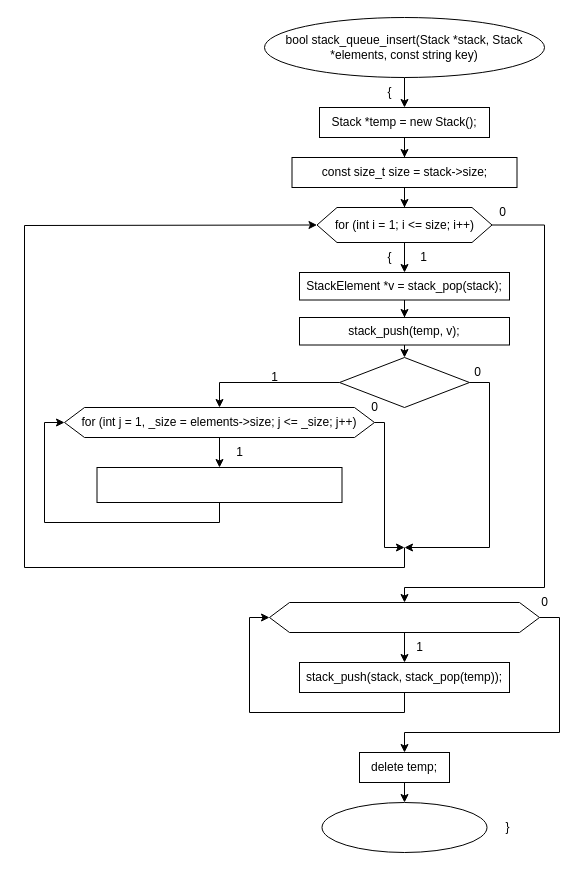
Some shapes in this 585 by 870 pixel diagram are drawn without their labels. Each missing label, with the box of its shape:
for (int i = 1, size = temp->size; i <= size; i++): (268, 602, 540, 632)
if (v->key == key): (338, 356, 470, 408)
return (stack->size > size);: (321, 802, 487, 852)
stack_push(temp, stack_pop(elements));: (96, 466, 342, 502)
